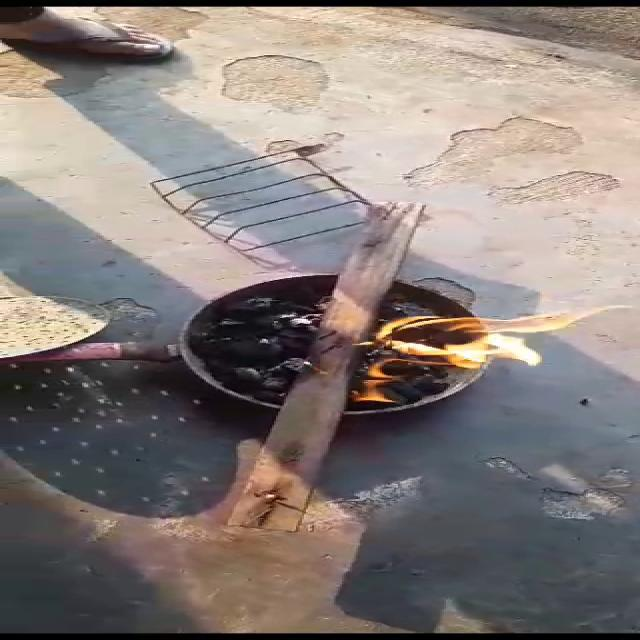Fire: (357, 294, 618, 411)
